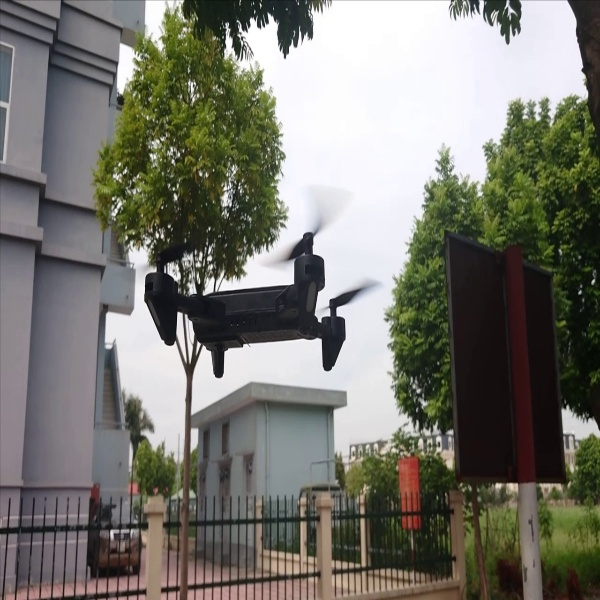drone: (138, 207, 383, 382)
